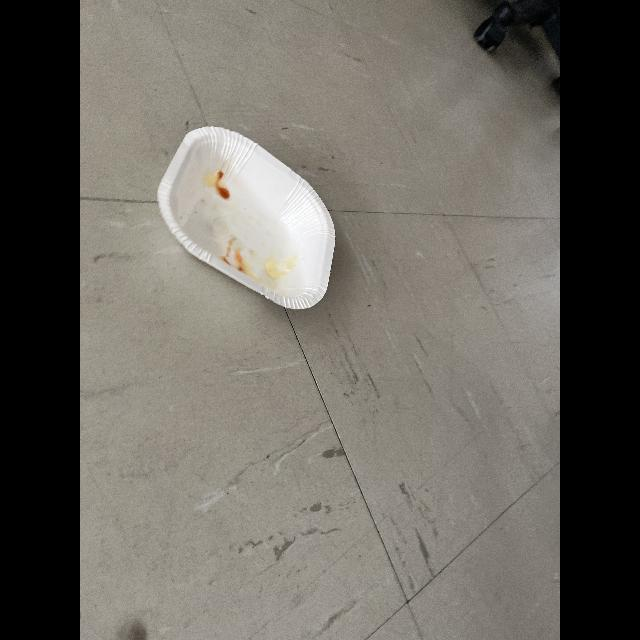cardboard_bowl: (144, 105, 358, 319)
